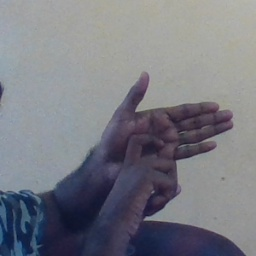R: (97, 67, 235, 217)
